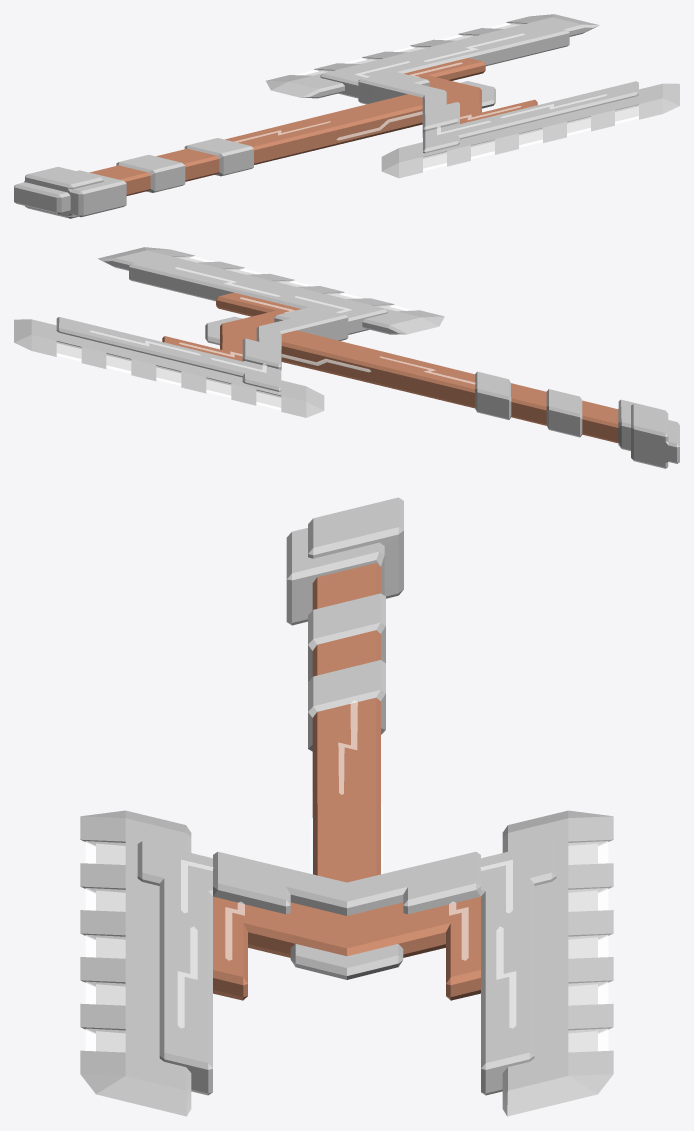
File: weap2_axe.fbx
3 views of the same model, one above another, from view 1: azimuth 30°, elevation 25°; view 2: azimuth 150°, elevation 25°; view 3: azimuth 270°, elevation 25° (orthographic). The views are drawn at different scales.
Visible parts, largest first — view 1: weap2_axe; view 2: weap2_axe; view 3: weap2_axe.
Boxes of the visible parts, left/top/right/bottom form: weap2_axe: left=14, top=14, right=679, bottom=218; weap2_axe: left=14, top=247, right=679, bottom=468; weap2_axe: left=80, top=497, right=613, bottom=1116.
Size of the model in its own units: 60.15 by 3.21 by 22.66.
